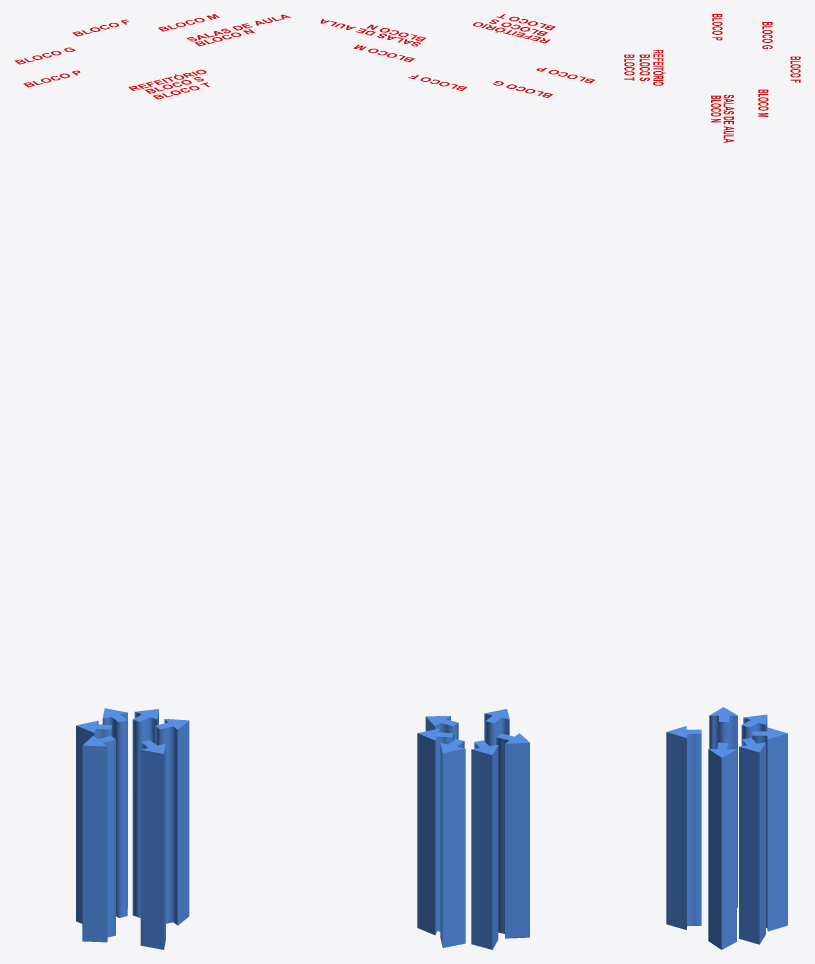
Rendered from bloco O - 0.glb.
The picture shows the model from 3 angles, left to right: view 1: azimuth 30°, elevation 25°; view 2: azimuth 150°, elevation 25°; view 3: azimuth 270°, elevation 25°; orthographic projection.
Visible parts, largest first — view 1: Curve.001, Curve.004, Curve.003, Curve.006, Curve.007, Curve.005; view 2: Curve.001, Curve.005, Curve.006, Curve.007, Curve.004; view 3: Curve.004, Curve.003, Curve.007, Curve.006, Curve.001, Curve.005.
Part boxes in pixels (bbox=[...]): Curve.001: bbox=[82, 736, 115, 942]; Curve.004: bbox=[140, 740, 165, 949]; Curve.003: bbox=[155, 719, 189, 925]; Curve.006: bbox=[102, 708, 127, 917]; Curve.007: bbox=[132, 709, 158, 917]; Curve.005: bbox=[76, 720, 112, 923]; Curve.001: bbox=[496, 733, 529, 938]; Curve.005: bbox=[471, 740, 498, 949]; Curve.006: bbox=[440, 739, 465, 947]; Curve.007: bbox=[417, 728, 453, 935]; Curve.004: bbox=[484, 709, 509, 746]; Curve.004: bbox=[666, 726, 701, 929]; Curve.003: bbox=[708, 742, 736, 949]; Curve.007: bbox=[739, 738, 765, 944]; Curve.006: bbox=[752, 727, 787, 931]; Curve.001: bbox=[709, 707, 737, 907]; Curve.005: bbox=[741, 714, 767, 745].
Bounding box in the file's own units: 0.1894 × 0.5868 × 0.1097.
